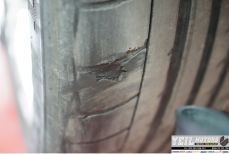bad_condition: (29, 15, 170, 149)
